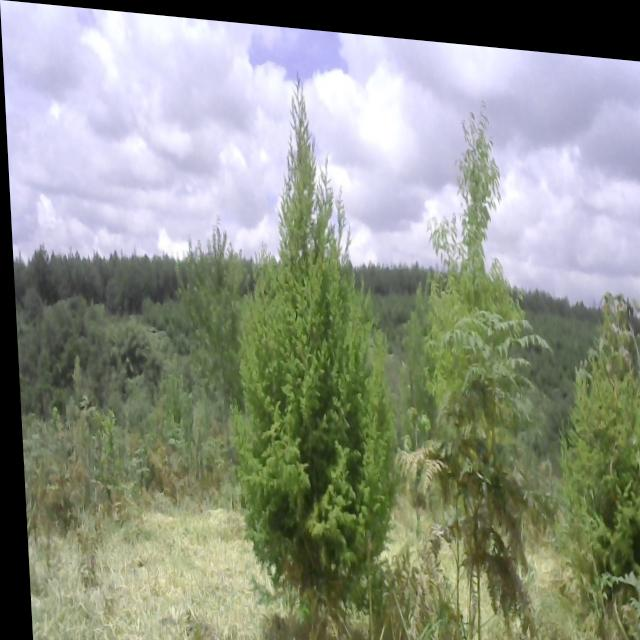cedrus: (218, 73, 398, 636), (555, 271, 640, 632)
other: (411, 86, 532, 454), (178, 227, 242, 407)
